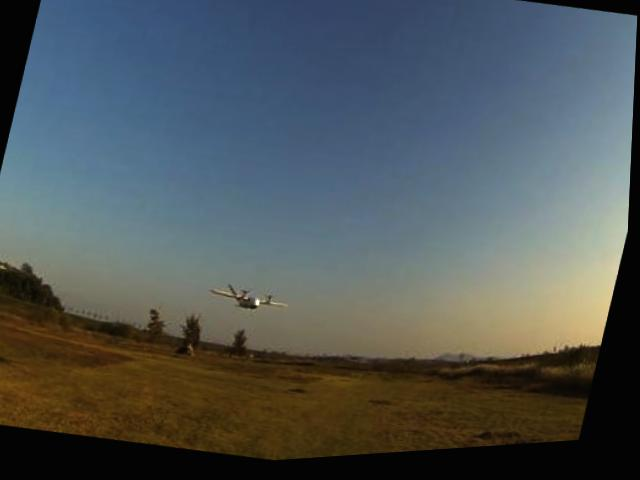uav: (196, 271, 301, 334)
